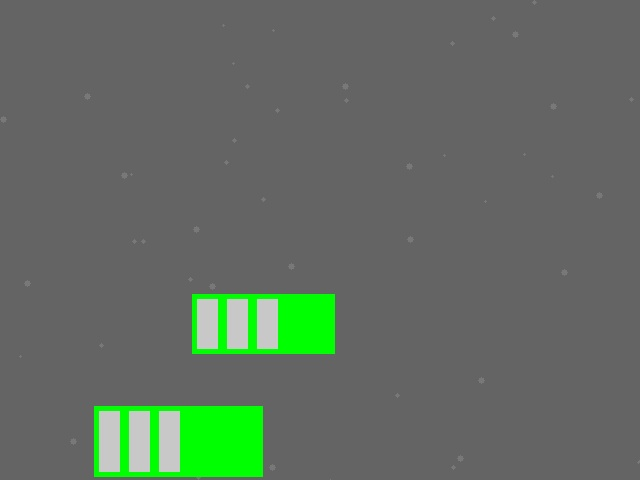bus: (94, 406, 262, 476), (192, 294, 334, 353)
